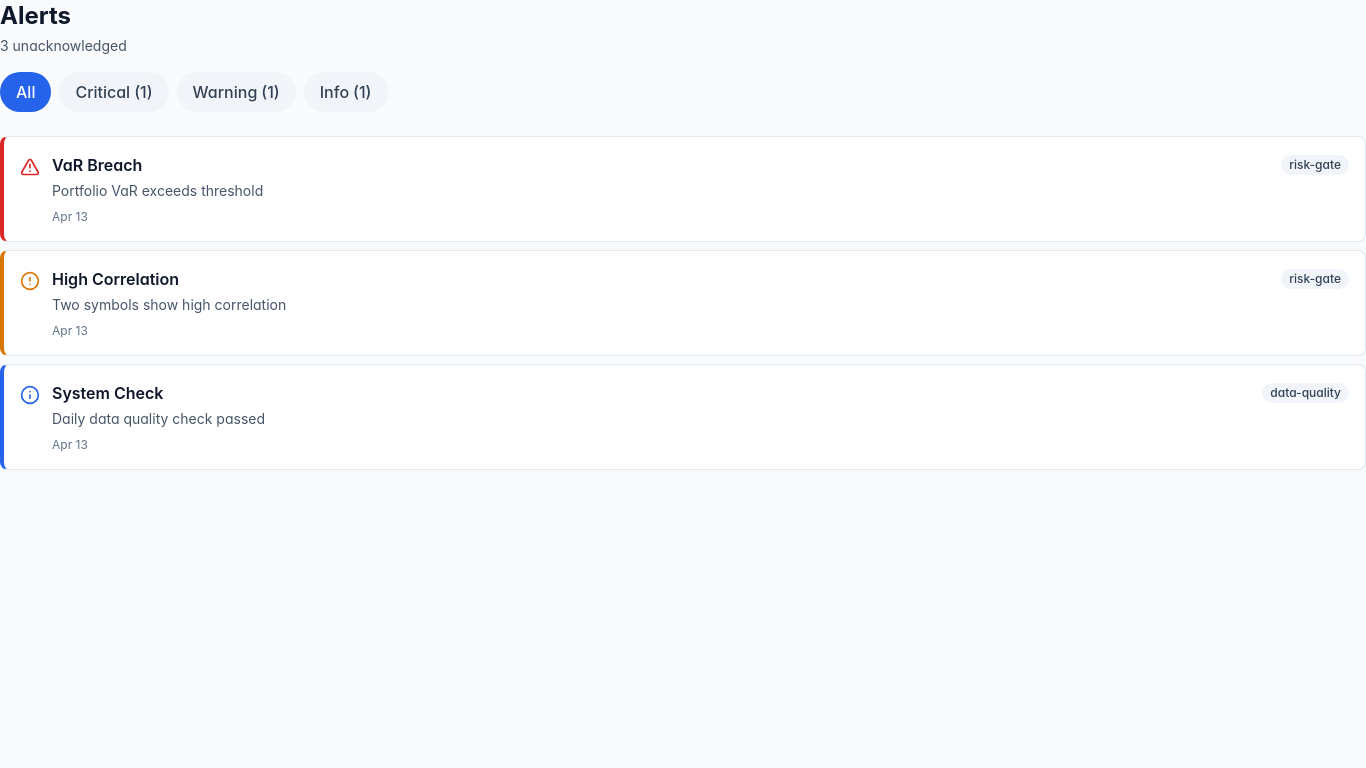
Test: AlertsPage › detail view › opens detail BottomSheet when alert card is clicked
The width and height of the screenshot is (1366, 768).
What coordinates should you click on to do the following:
click the heading "VaR Breach"
I would click on:
 (97, 165)
Its box is x1=52 y1=153 x2=142 y2=177.
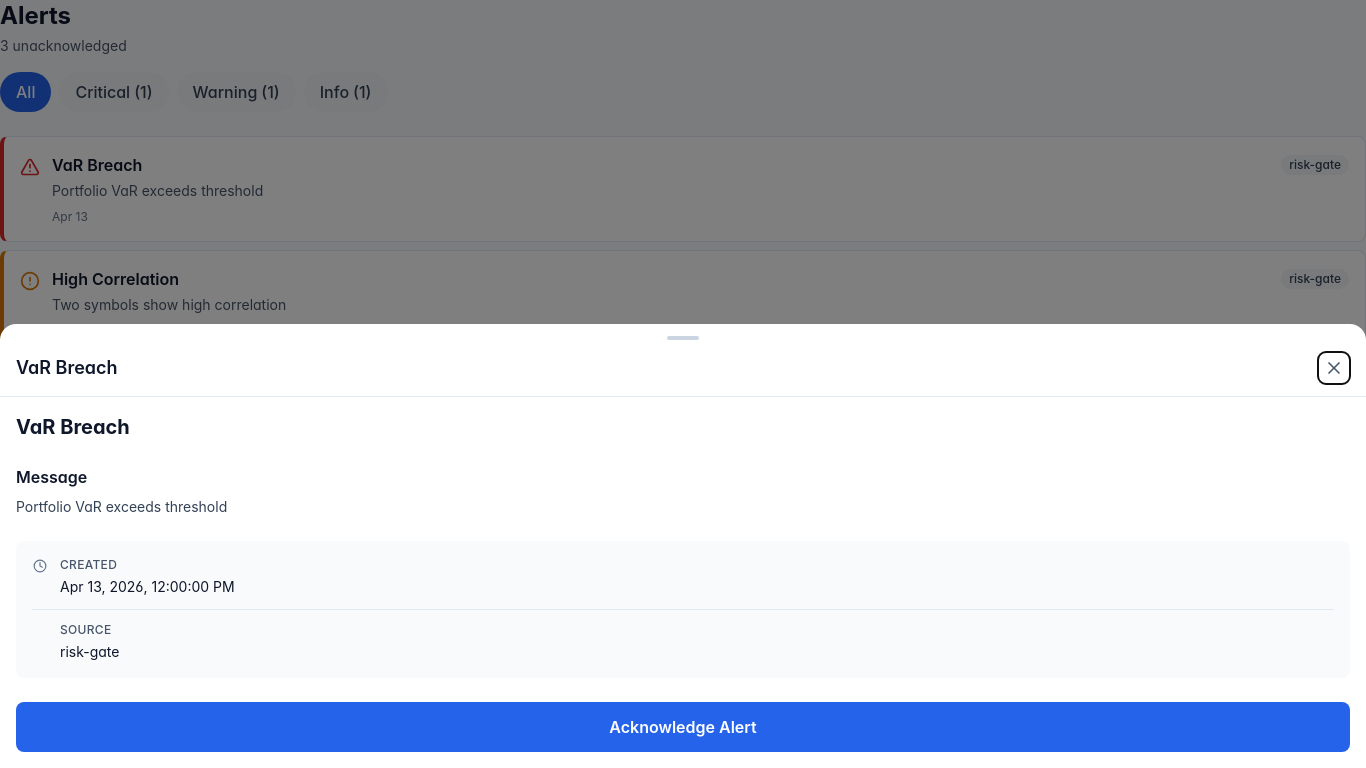
Result: the dialog is shown at x1=0 y1=324 x2=1365 y2=767
